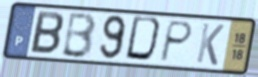9: (98, 14, 128, 63)
B: (59, 11, 98, 60), (28, 9, 66, 57)
D: (123, 14, 166, 65)
K: (194, 21, 226, 68)
P: (157, 19, 195, 64)
